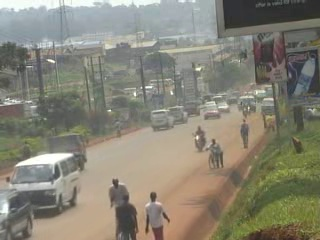Car: (0, 185, 40, 237), (202, 104, 220, 120), (216, 103, 229, 115), (202, 100, 214, 111)
Motorcycle: (189, 127, 207, 152), (242, 101, 250, 117)
